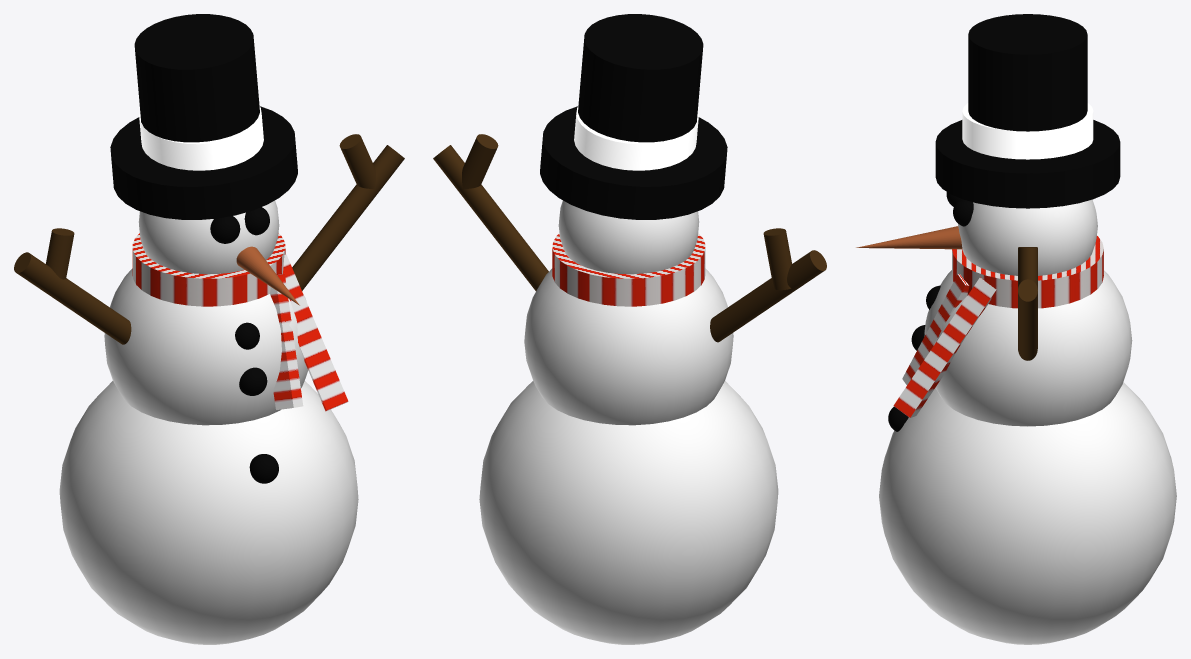
3 views of the same model, side by side, from view 1: azimuth 30°, elevation 25°; view 2: azimuth 150°, elevation 25°; view 3: azimuth 270°, elevation 25° (orthographic).
Visible parts, largest first — view 1: Sphere (×7), Cylinder (×9), Box (×2); view 2: Sphere (×3), Cylinder (×8); view 3: Sphere (×3), Cylinder (×7), Box (×2).
Boxes of the visible parts, x1=… form: Sphere (×7): x1=59, y1=200, x2=358, y2=644; Cylinder (×9): x1=14, y1=14, x2=404, y2=344; Box (×2): x1=270, y1=254, x2=348, y2=411; Sphere (×3): x1=479, y1=200, x2=778, y2=644; Cylinder (×8): x1=433, y1=14, x2=826, y2=342; Sphere (×3): x1=879, y1=199, x2=1176, y2=644; Cylinder (×7): x1=856, y1=14, x2=1120, y2=360; Box (×2): x1=893, y1=274, x2=996, y2=417.
Bounding box in the file's own units: 3 × 4.4 × 2.16.
Materials: 11 (2 with a texture image).
